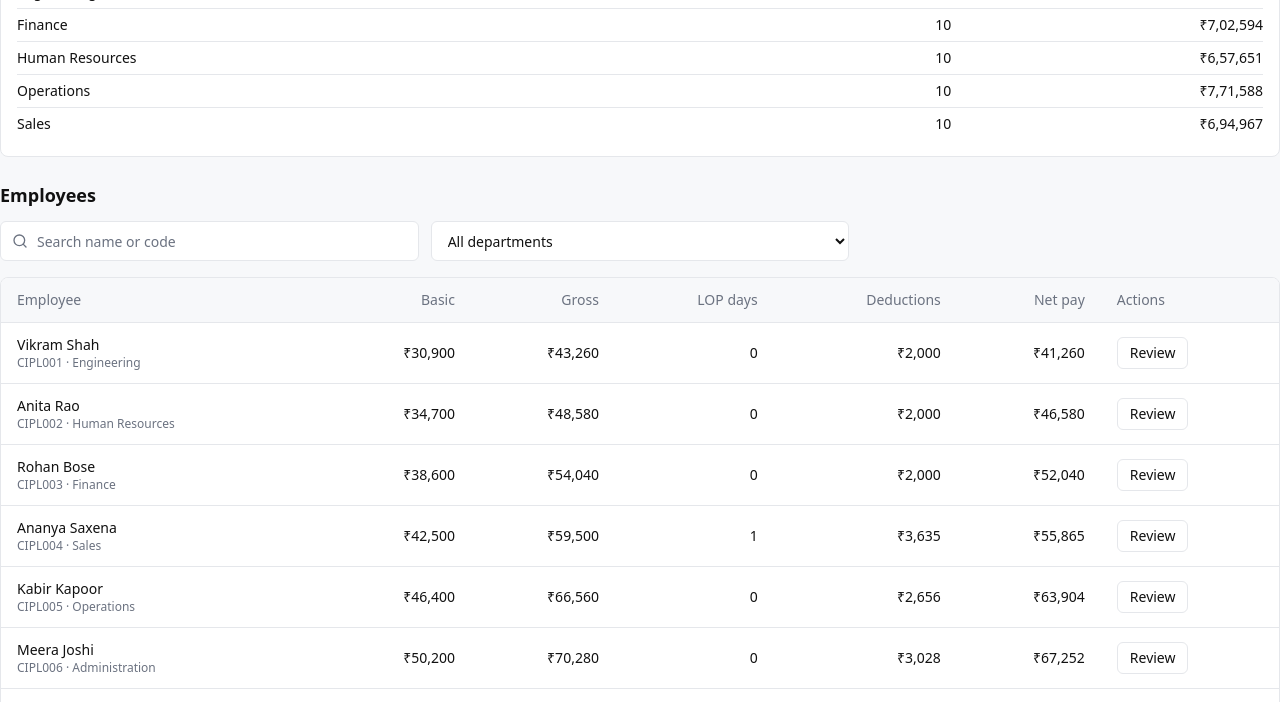
Payroll (HR) › shows the breakdown for one employee exactly as the backend supplies it
This screenshot has width=1280, height=702.
(page scrolled)
Click the button with aria-label "Review payroll for". click: (1153, 353)
box: [1117,337,1188,369]
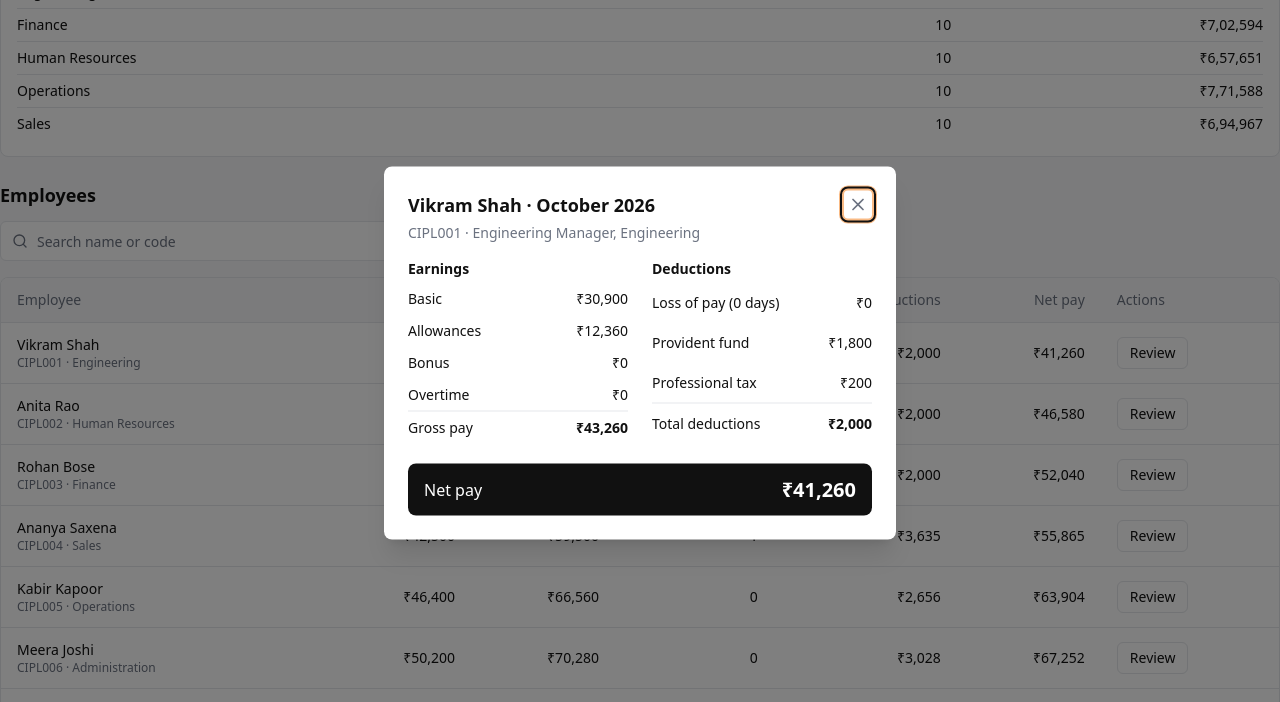
Expected: the column heading "Loss of pay (0 days)" is shown, [652,282,820,322]
